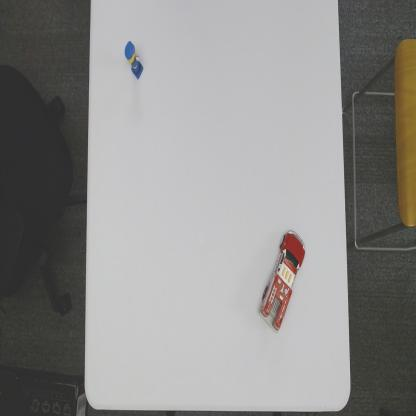Firetruck: (259, 230, 307, 334)
